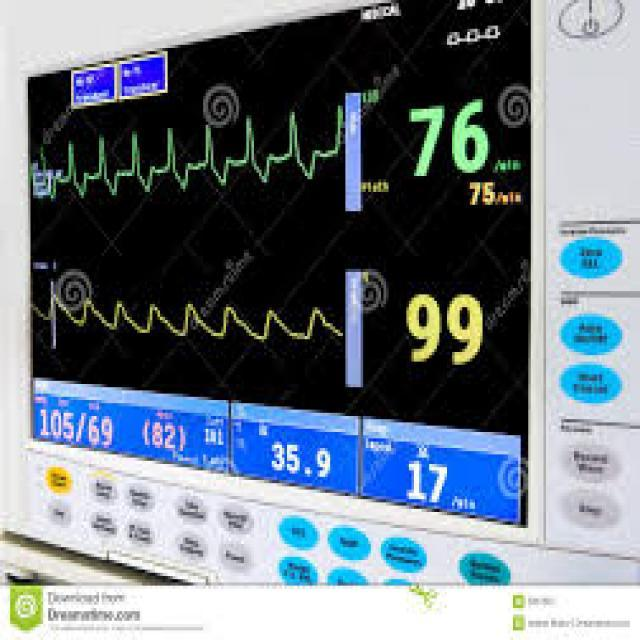cardiac_monitor: (13, 40, 543, 577)
